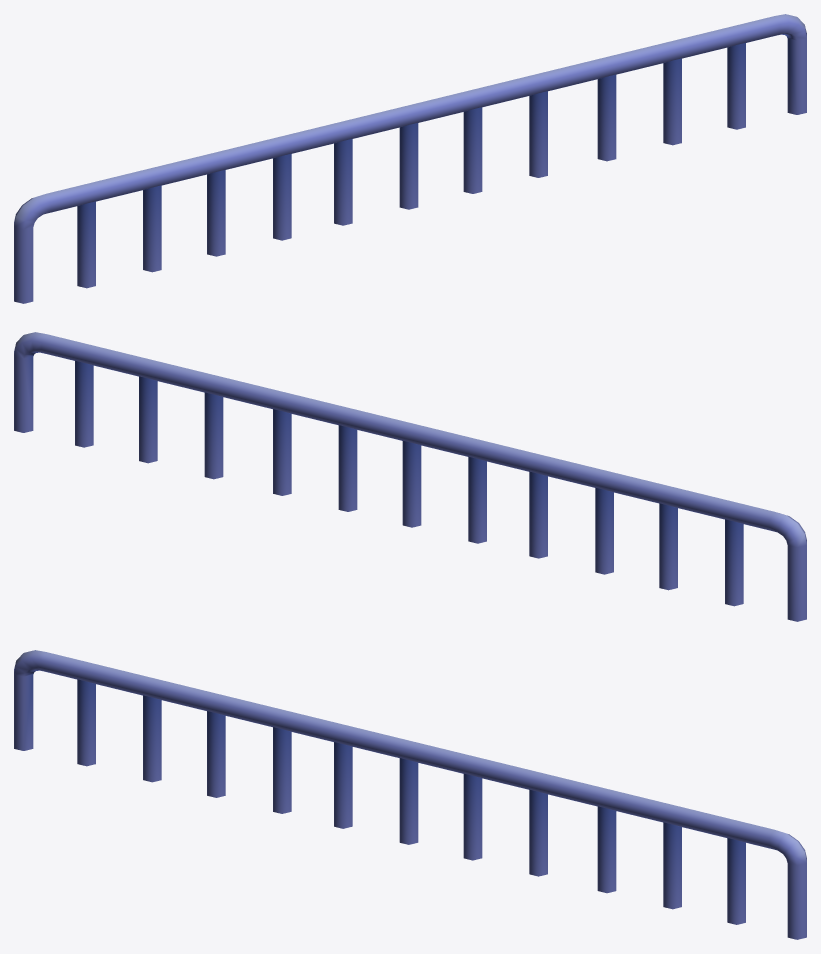
Rendered from StartGatePlatformHandrailBlue.glb.
The picture shows the model from 3 angles, top to bottom: view 1: azimuth 30°, elevation 25°; view 2: azimuth 150°, elevation 25°; view 3: azimuth 330°, elevation 25°; orthographic projection.
Visible parts, largest first — view 1: StartGatePlatformHandrailBlue; view 2: StartGatePlatformHandrailBlue; view 3: StartGatePlatformHandrailBlue.
Part boxes in pixels (box(x1,y1,x2,y2)): StartGatePlatformHandrailBlue: box(14, 14, 806, 303); StartGatePlatformHandrailBlue: box(14, 332, 806, 621); StartGatePlatformHandrailBlue: box(14, 650, 806, 939).
Bounding box in the file's own units: 6.34 × 0.7639 × 0.1347.
